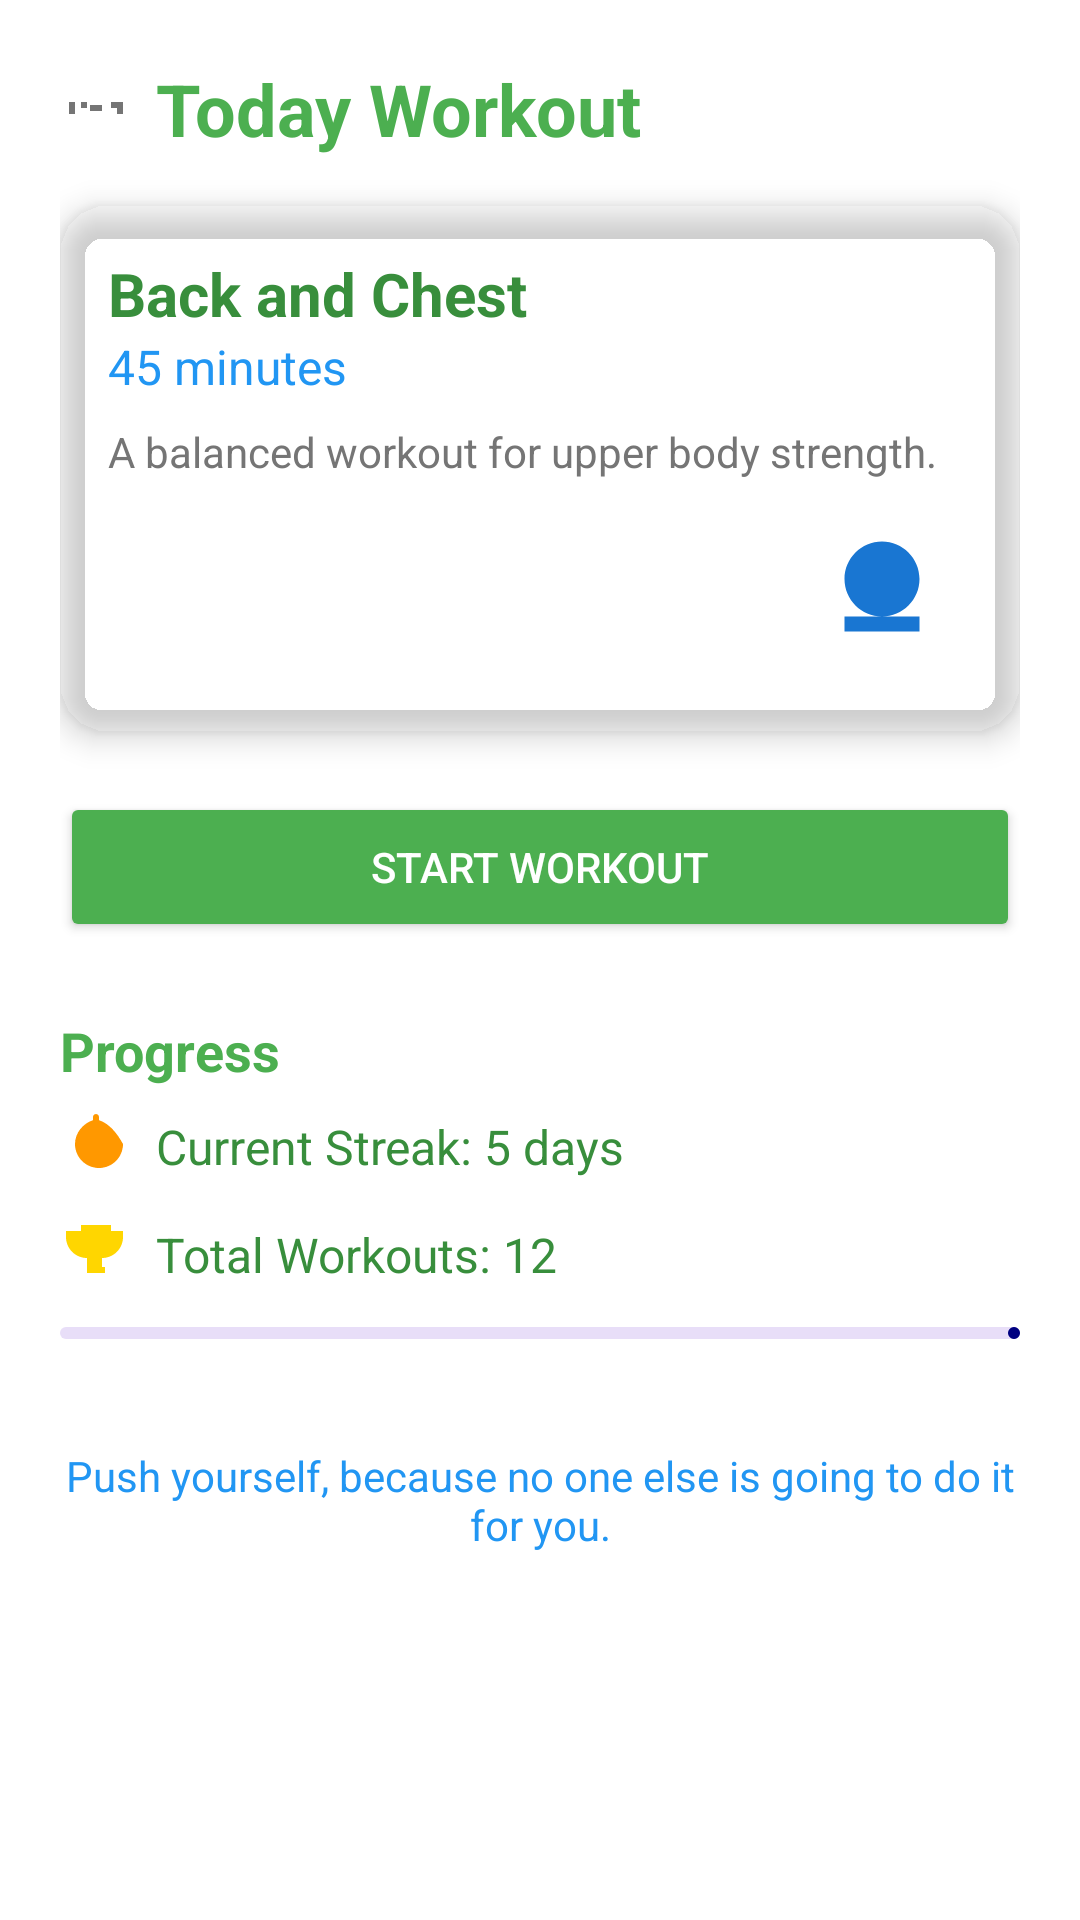

Icons on this 1080x1920 Android screen, each with the point to tap as [x,y]:
Workout Streak: [99,1141]
